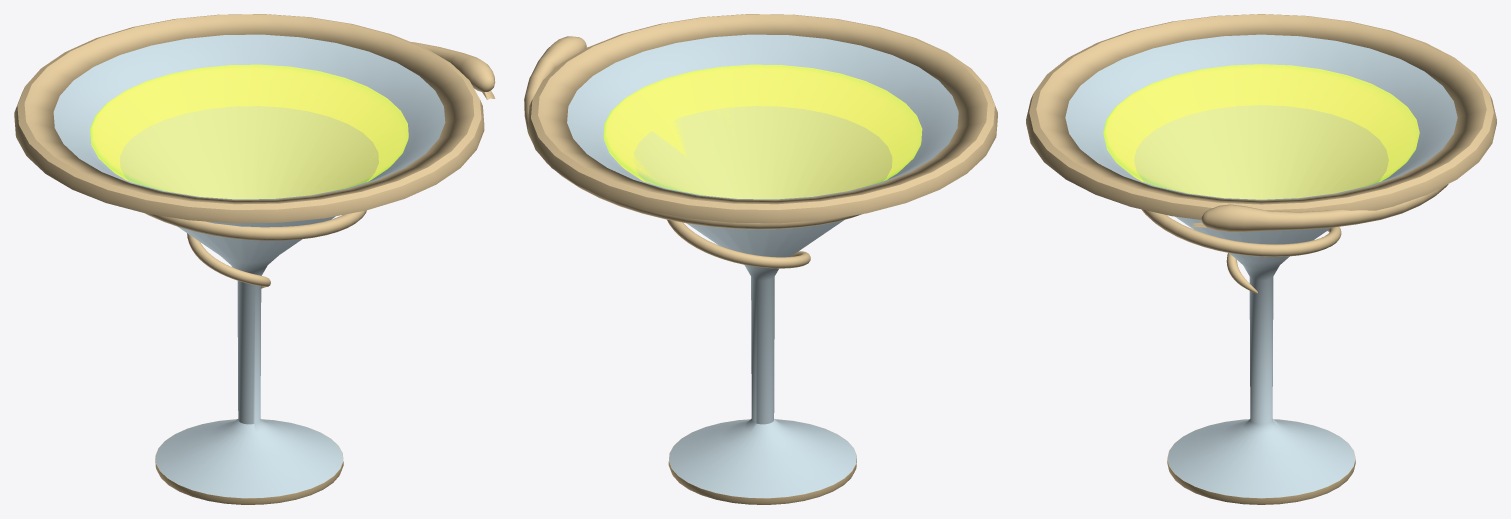
The model's file is AlesssandroCocktailGlass.fbx.
The picture shows the model from 3 angles, left to right: view 1: azimuth 30°, elevation 25°; view 2: azimuth 150°, elevation 25°; view 3: azimuth 270°, elevation 25°; orthographic projection.
Parts seen in each view (by area): view 1: CocktailGlass, Liquid; view 2: CocktailGlass, Liquid; view 3: CocktailGlass, Liquid.
Part boxes in pixels (x1,y1,x2,y2): CocktailGlass: (14, 14, 495, 504); Liquid: (90, 64, 408, 199); CocktailGlass: (524, 14, 997, 504); Liquid: (603, 64, 922, 199); CocktailGlass: (1026, 14, 1496, 504); Liquid: (1103, 64, 1419, 199).
Size of the model in its own units: 262 by 213 by 249.
